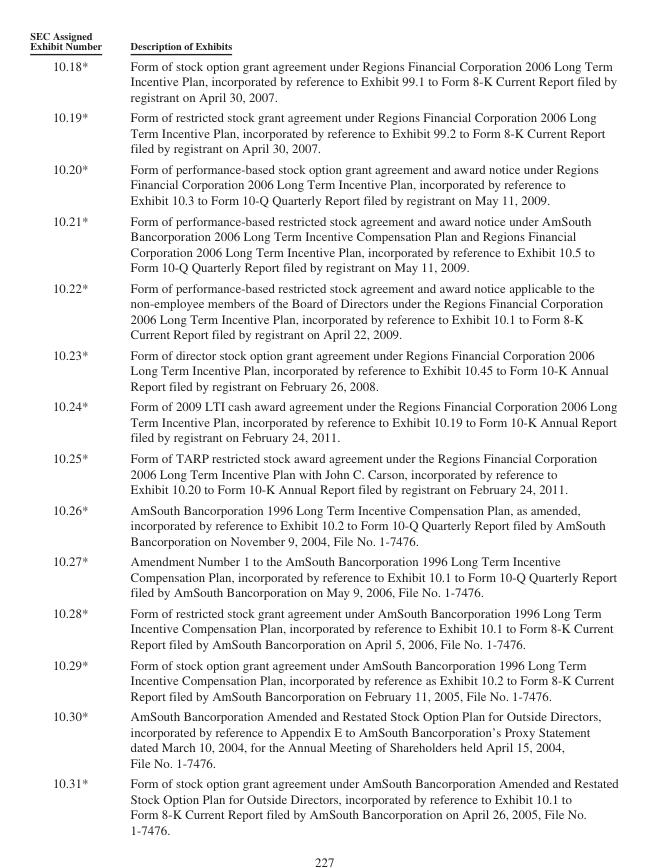table: (29, 29, 617, 836)
table column: (115, 29, 617, 836), (29, 29, 115, 836)
table column header: (29, 29, 617, 54)
table row: (29, 209, 617, 277), (29, 277, 617, 344), (29, 705, 617, 772), (29, 772, 617, 836), (29, 54, 617, 106), (29, 106, 617, 158), (29, 395, 617, 447), (29, 498, 617, 550), (29, 550, 617, 602), (29, 653, 617, 705), (29, 158, 617, 209), (29, 344, 617, 395), (29, 447, 617, 498), (29, 602, 617, 653), (29, 29, 617, 54)
